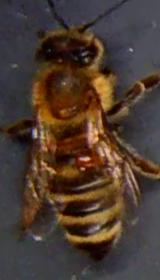varroa_mite: (66, 149, 109, 165)
